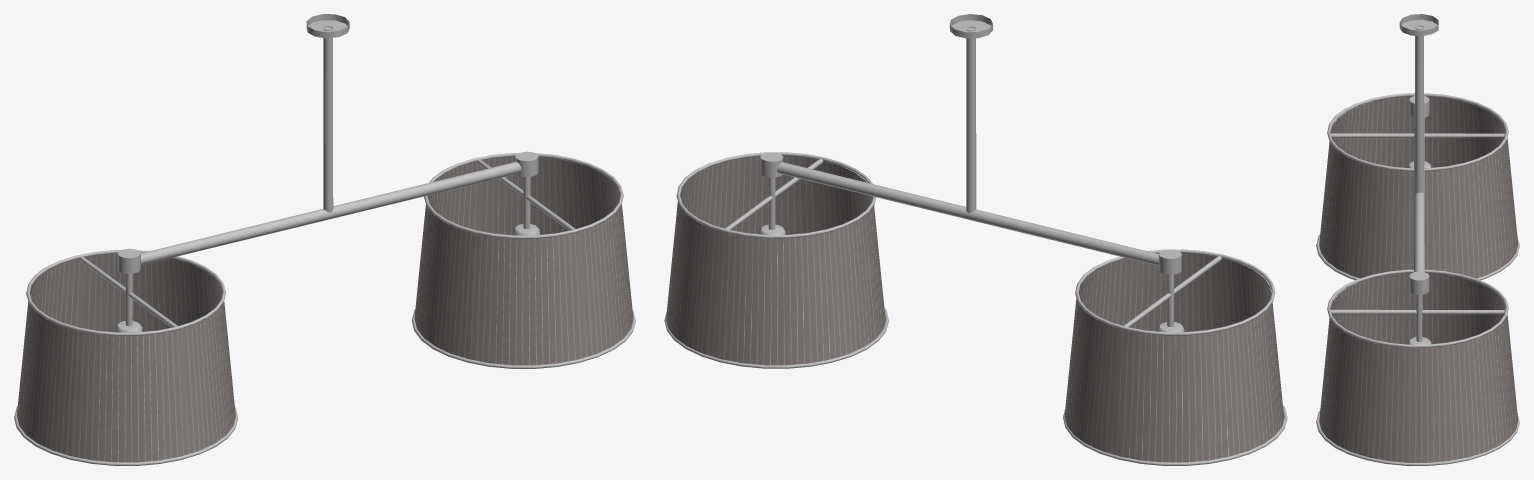
Rendered from SM_Lamp_B1.fbx.
The picture shows the model from 3 angles, left to right: view 1: azimuth 30°, elevation 25°; view 2: azimuth 150°, elevation 25°; view 3: azimuth 270°, elevation 25°; orthographic projection. The views are drawn at different scales.
Visible parts, largest first — view 1: SM_Lamp_B1; view 2: SM_Lamp_B1; view 3: SM_Lamp_B1.
Boxes of the visible parts, box(x1,y1,x2,y2) form: SM_Lamp_B1: box(14, 14, 635, 465); SM_Lamp_B1: box(664, 14, 1287, 465); SM_Lamp_B1: box(1316, 14, 1519, 465).
Bounding box in the file's own units: 111 × 36.43 × 62.13.
2 materials, 2 textured.
